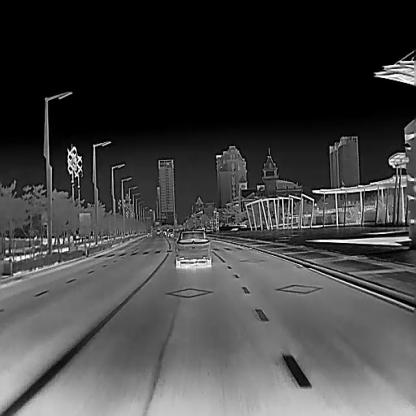car: (174, 228, 213, 268), (167, 228, 174, 237), (145, 231, 152, 237), (155, 228, 160, 235)
